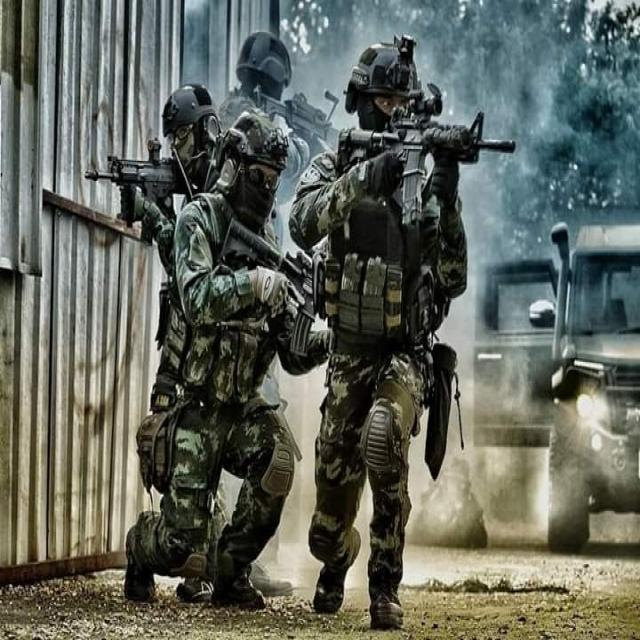m16: (318, 82, 550, 264)
